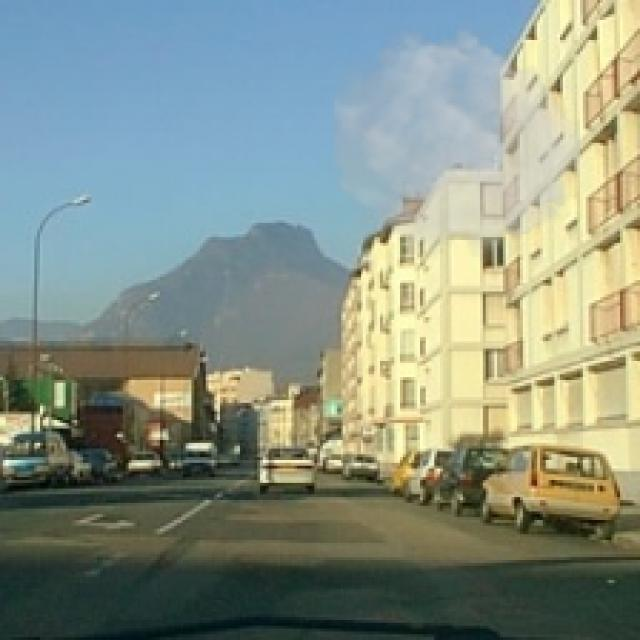smoke: (334, 20, 580, 263)
